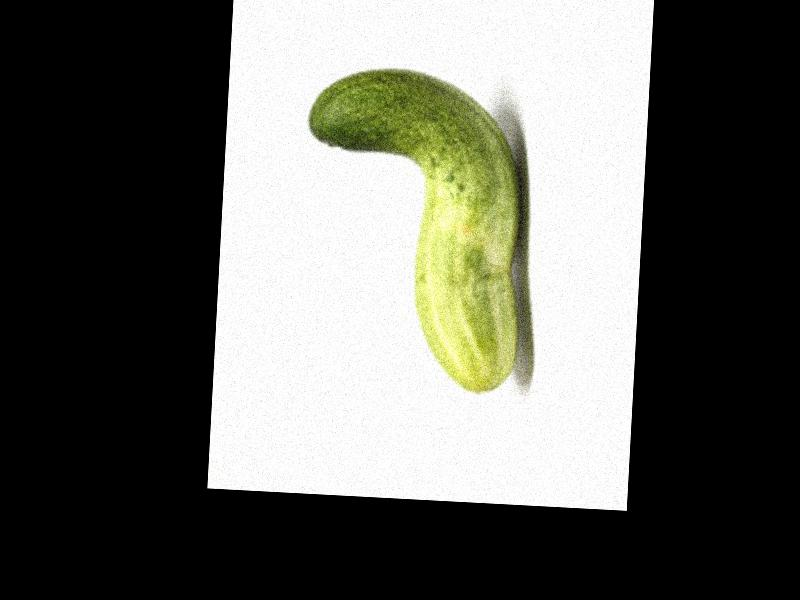Cucumber: (294, 63, 533, 395)
